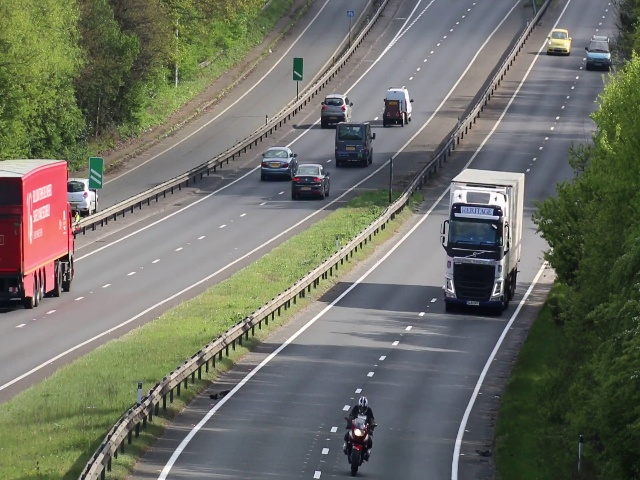car: (1, 181, 82, 306), (441, 208, 517, 318), (335, 125, 373, 167), (292, 164, 330, 200), (381, 86, 415, 126), (317, 94, 354, 121), (260, 148, 291, 179), (585, 40, 611, 73), (547, 27, 571, 57)
